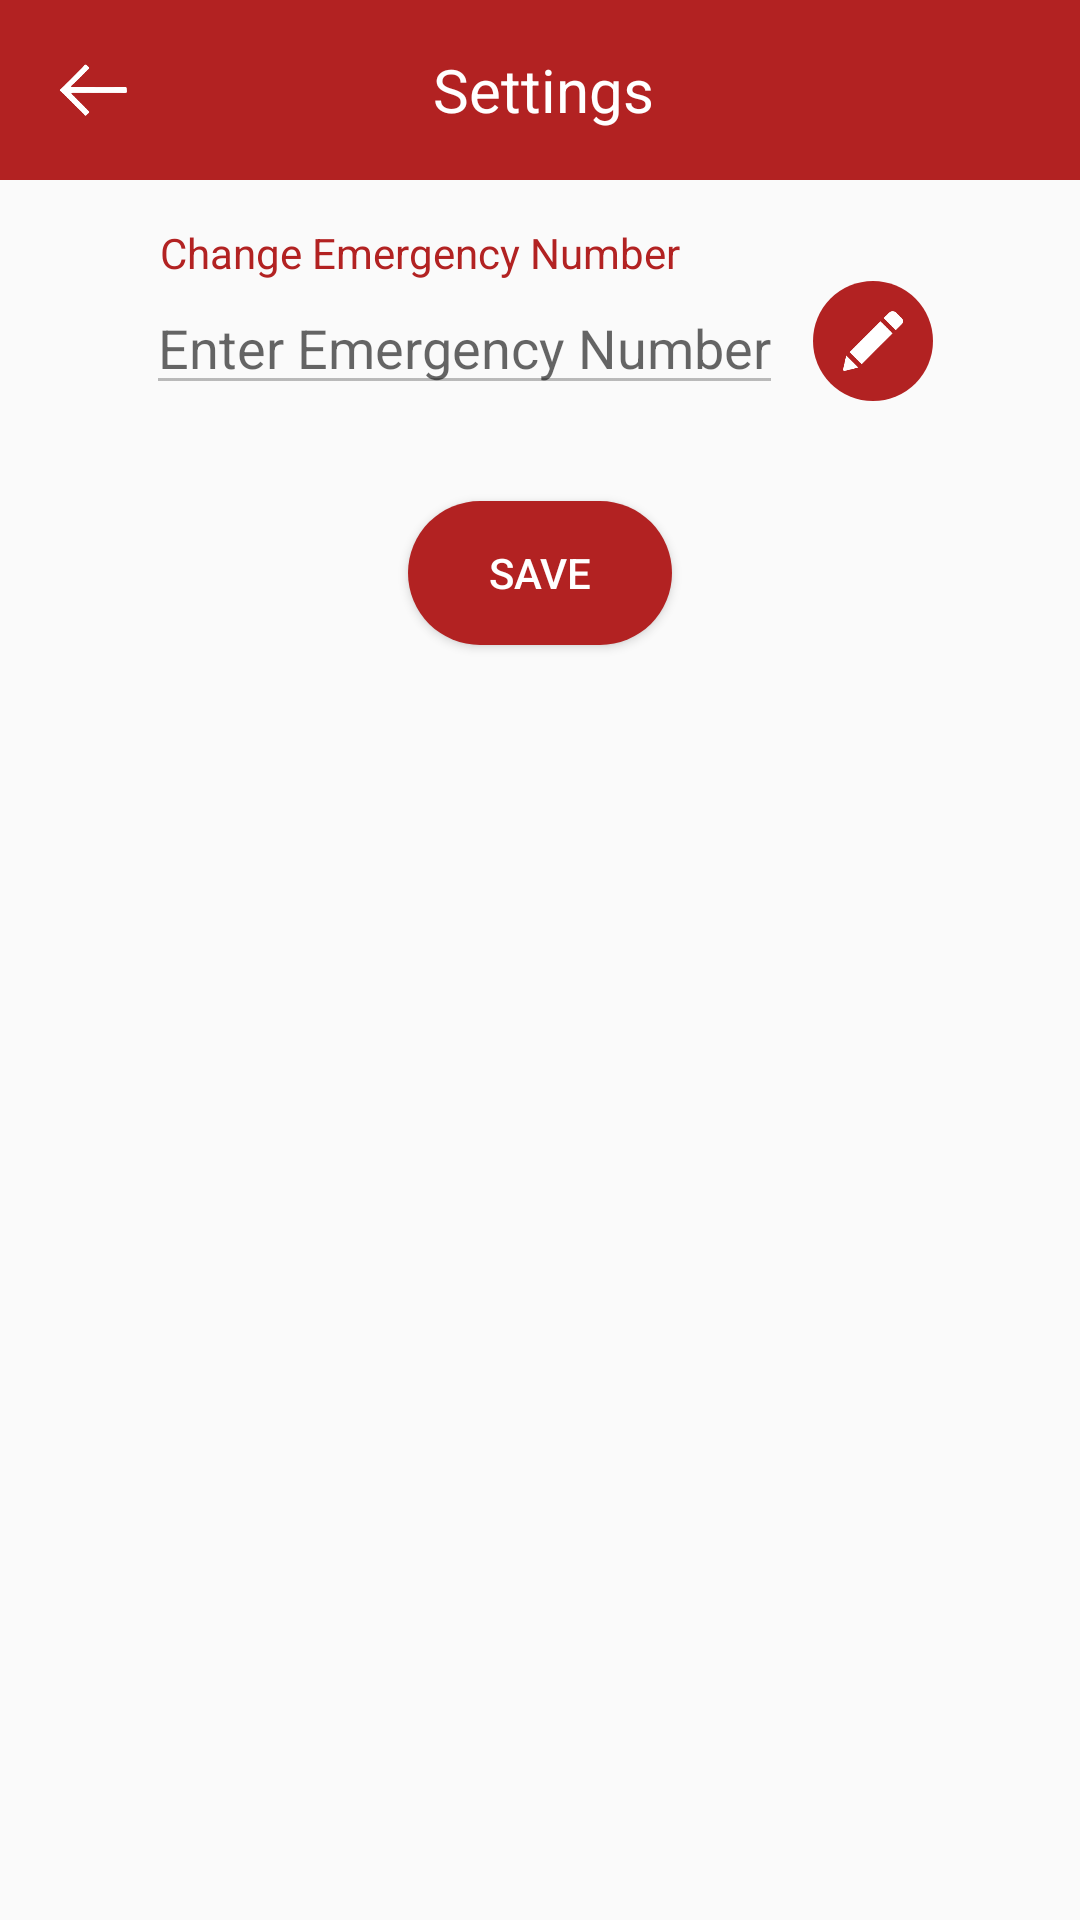

Named icons in this screenshot (1080 x 1920) and their centers, (x=x, y=y):
back arrow: (x=93, y=90)
Edit: (x=873, y=341)
